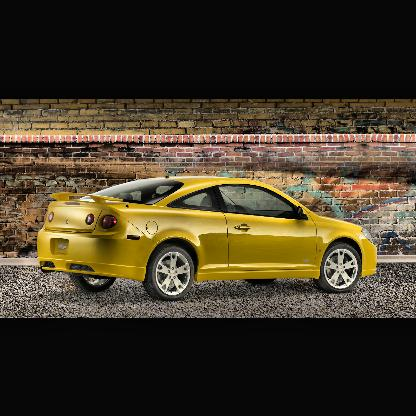Chevrolet Cobalt SS 2010: (38, 175, 378, 301)
